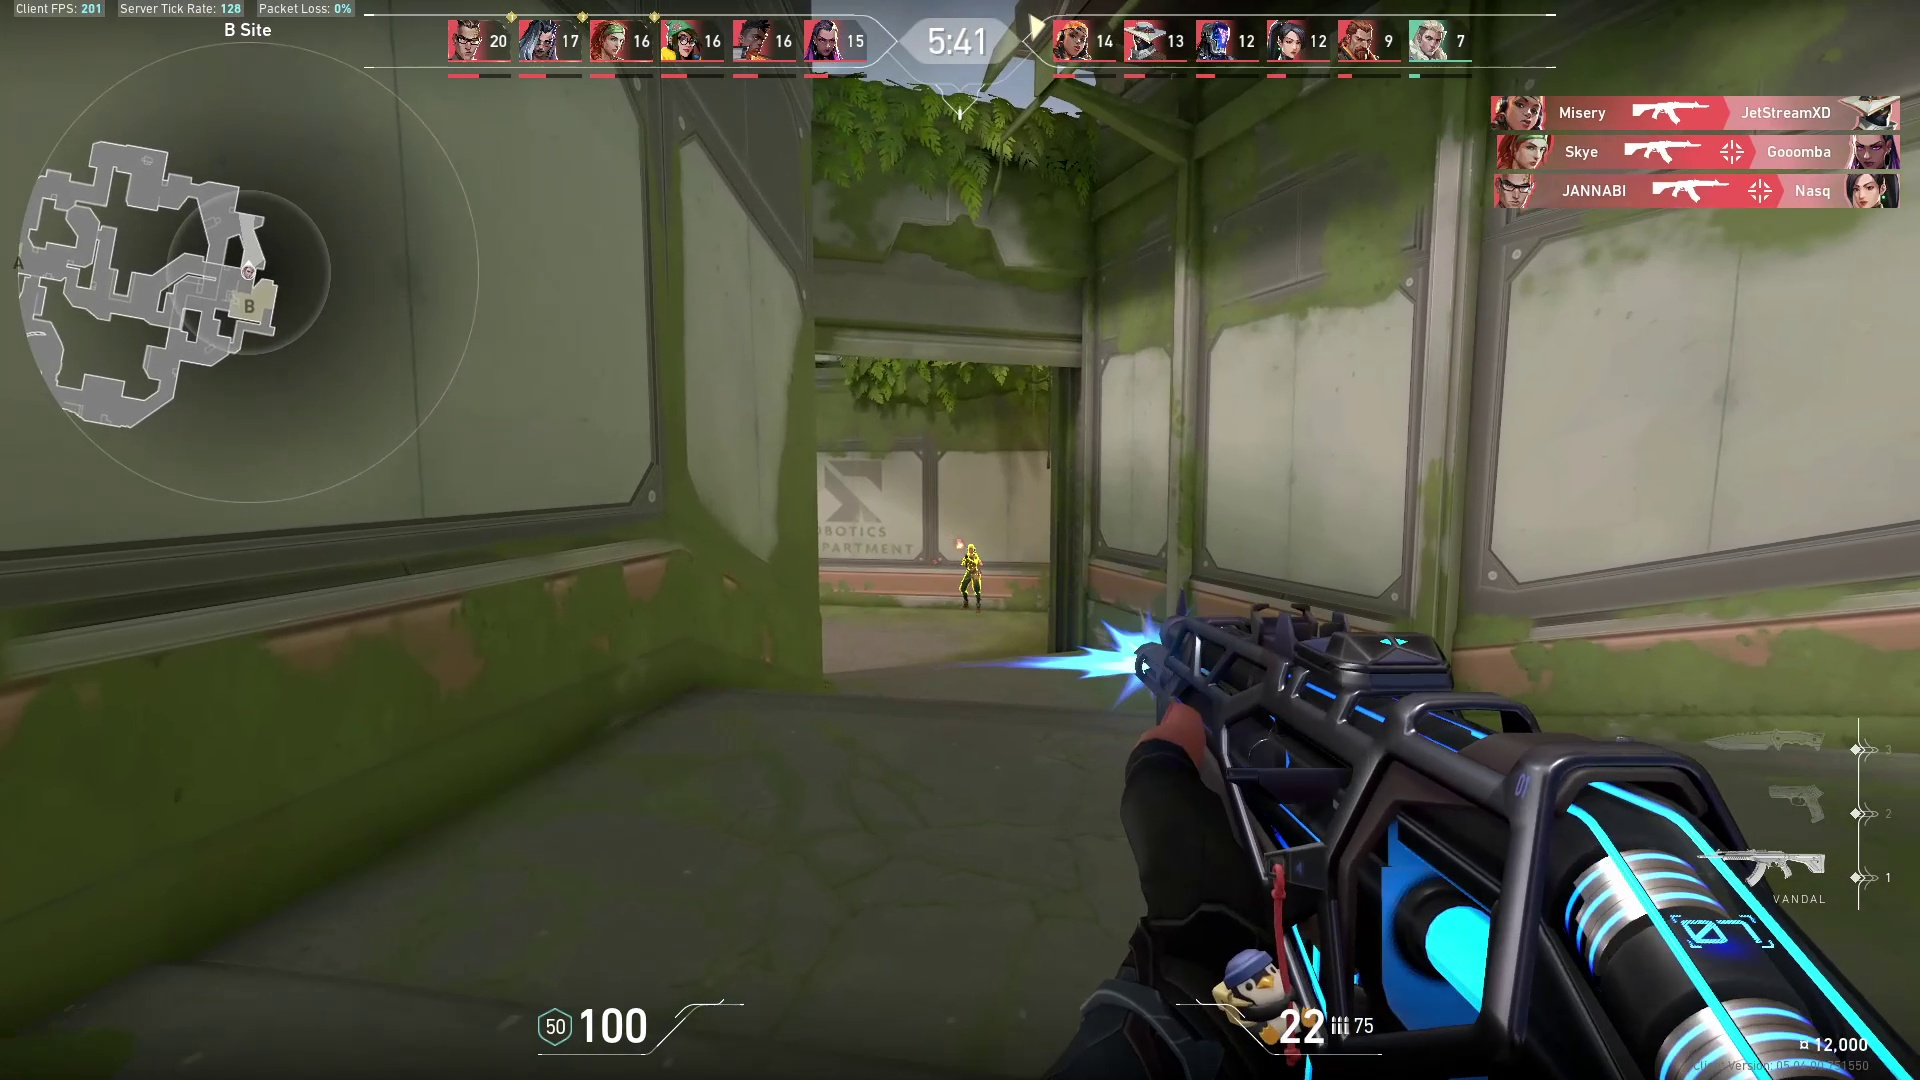enemy_body: (957, 555, 988, 615)
enemy_head: (964, 542, 977, 555)
